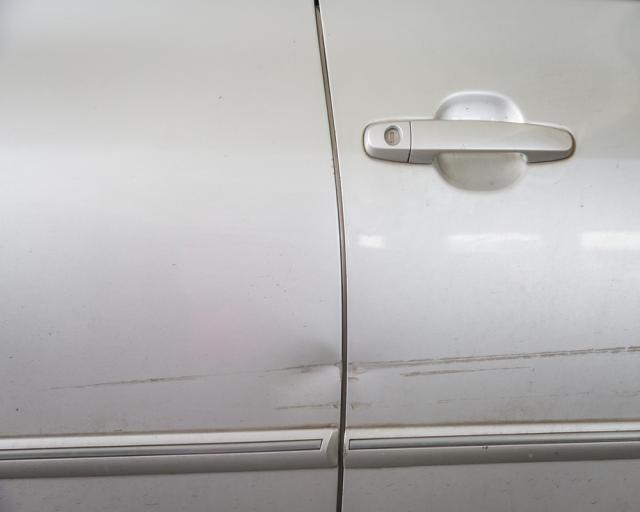dent: (272, 342, 341, 395)
scratch: (347, 344, 640, 386), (46, 372, 204, 395)
